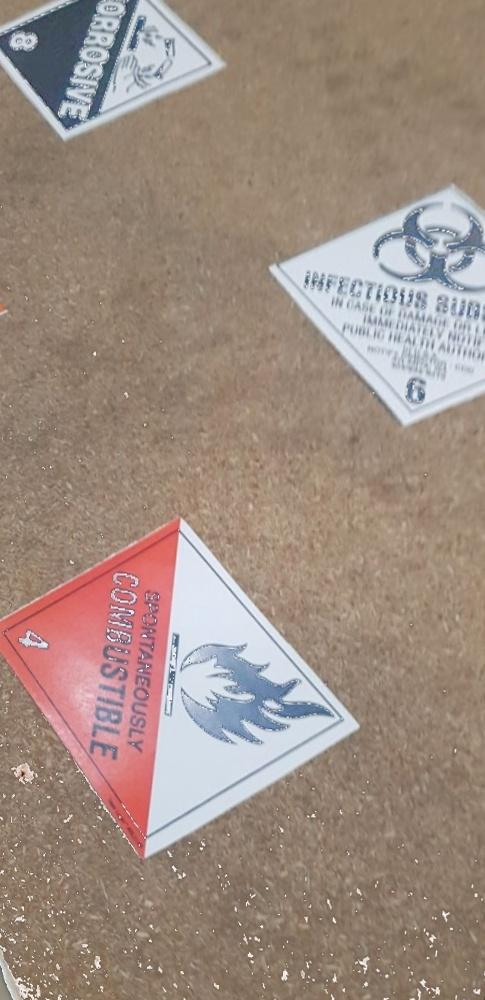corrosive: (1, 1, 248, 165)
infectious-substance: (255, 159, 485, 438)
spontaneously-combustible: (1, 509, 393, 902)
